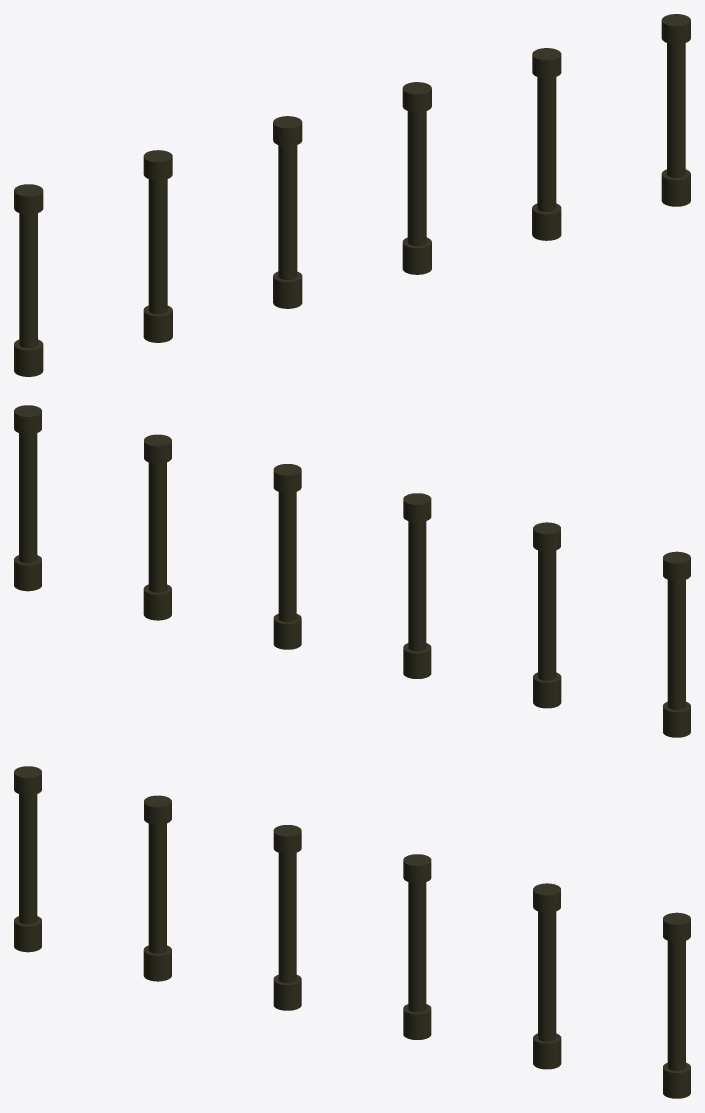
File: archways_01.fbx
3 views of the same model, one above another, from view 1: azimuth 30°, elevation 25°; view 2: azimuth 150°, elevation 25°; view 3: azimuth 330°, elevation 25° (orthographic). The views are drawn at different scales.
Visible parts, largest first — view 1: archways_LOD0; view 2: archways_LOD0; view 3: archways_LOD0.
Part boxes in pixels (x1=…): archways_LOD0: x1=14, y1=14, x2=690, y2=376; archways_LOD0: x1=14, y1=405, x2=690, y2=737; archways_LOD0: x1=14, y1=766, x2=690, y2=1098.
Size of what is drawn, in the model's own units: 5829 by 1466 by 399.
